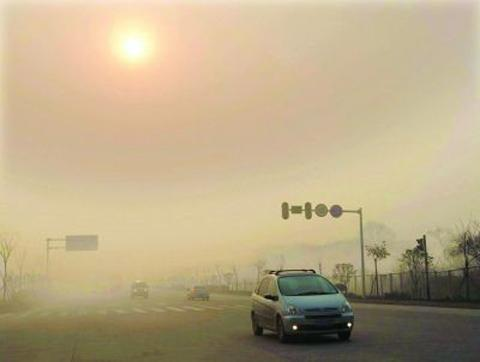car: (250, 266, 354, 341), (185, 285, 211, 302), (128, 280, 150, 298)
